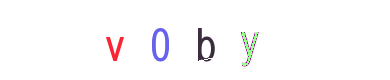0: (135, 0, 215, 80)
B: (155, 0, 235, 80)
V: (132, 0, 212, 80)
Y: (193, 0, 273, 80)
